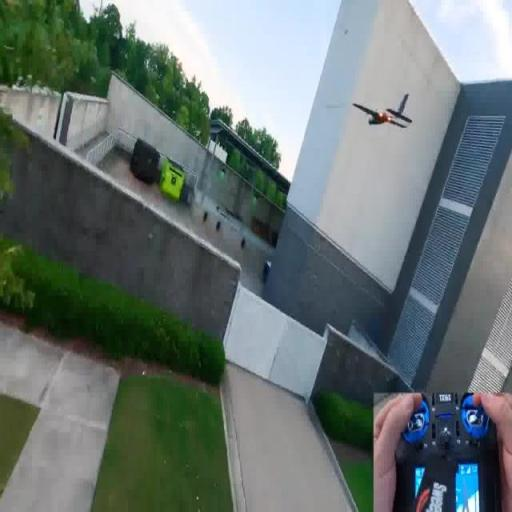uav: (350, 84, 416, 142)
